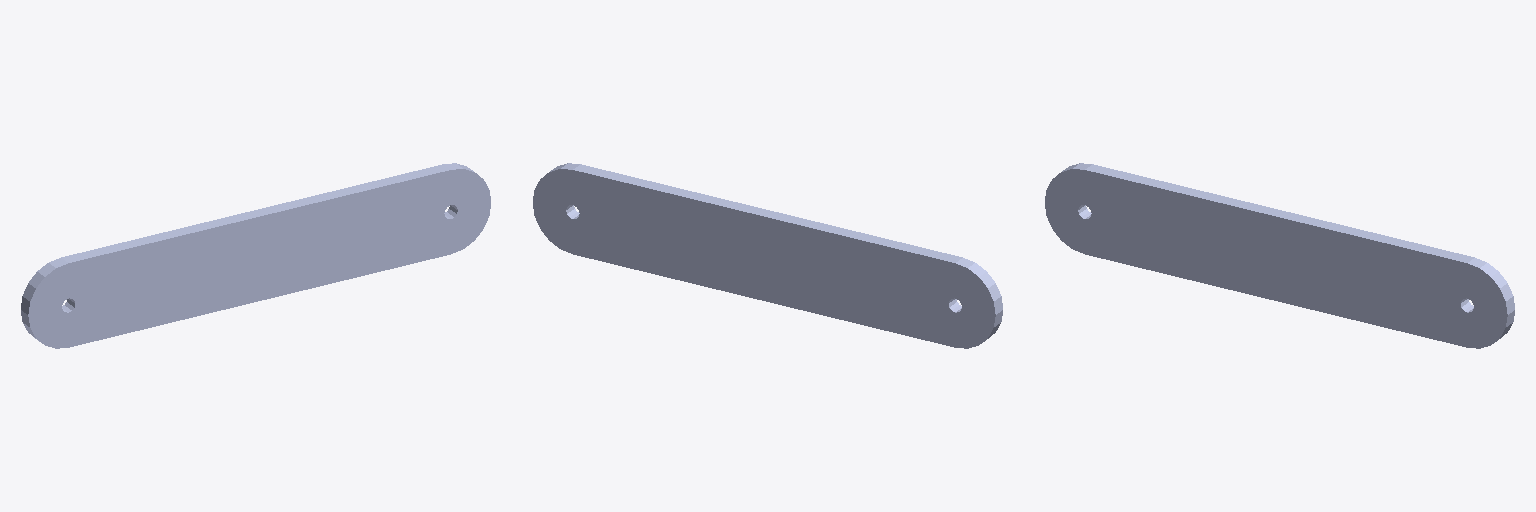
The robot description file, URDF, robot "UpperArm":
<robot
  name="UpperArm">
  <link
    name="UpperArm">
    <inertial>
      <origin
        xyz="0.028052 -0.003175 -0.01905"
        rpy="0 0 0" />
      <mass
        value="0.050468" />
      <inertia
        ixx="6.10326440955991E-06"
        ixy="-3.30872245021211E-22"
        ixz="1.93906147547911E-22"
        iyy="0.00019098543338738"
        iyz="-3.19320981329225E-22"
        izz="0.000185221334576007" />
    </inertial>
    <visual>
      <origin
        xyz="0 0 0"
        rpy="1.5707963267949 0 0" />
      <geometry>
        <mesh
          filename="package://UpperArm/meshes/UpperArm.STL" />
      </geometry>
      <material
        name="">
        <color
          rgba="0.79216 0.81961 0.93333 1" />
      </material>
    </visual>
    <collision>
      <origin
        xyz="0 0 0"
        rpy="1.5707963267949 0 0" />
      <geometry>
        <mesh
          filename="package://UpperArm/meshes/UpperArm.STL" />
      </geometry>
    </collision>
  </link>
</robot>

--- Facts derived from the render (not from the file) ---
The picture shows the robot from 3 angles, left to right: view 1: azimuth 30°, elevation 25°; view 2: azimuth 150°, elevation 25°; view 3: azimuth 330°, elevation 25°; orthographic projection.
Model UpperArm with 1 links and 0 joints (none), rooted at UpperArm, posed every joint at zero.
Links seen in each view (by area): view 1: UpperArm; view 2: UpperArm; view 3: UpperArm.
Link boxes in pixels (x1,y1,x2,y2): UpperArm: [21, 163, 490, 348]; UpperArm: [533, 163, 1002, 348]; UpperArm: [1045, 163, 1514, 348].
Bounding box of the posed robot: 0.2184 × 0.0063 × 0.0381 m (x, y, z).
1 mesh visuals loaded from 1 distinct referenced files (1 binary STL).
